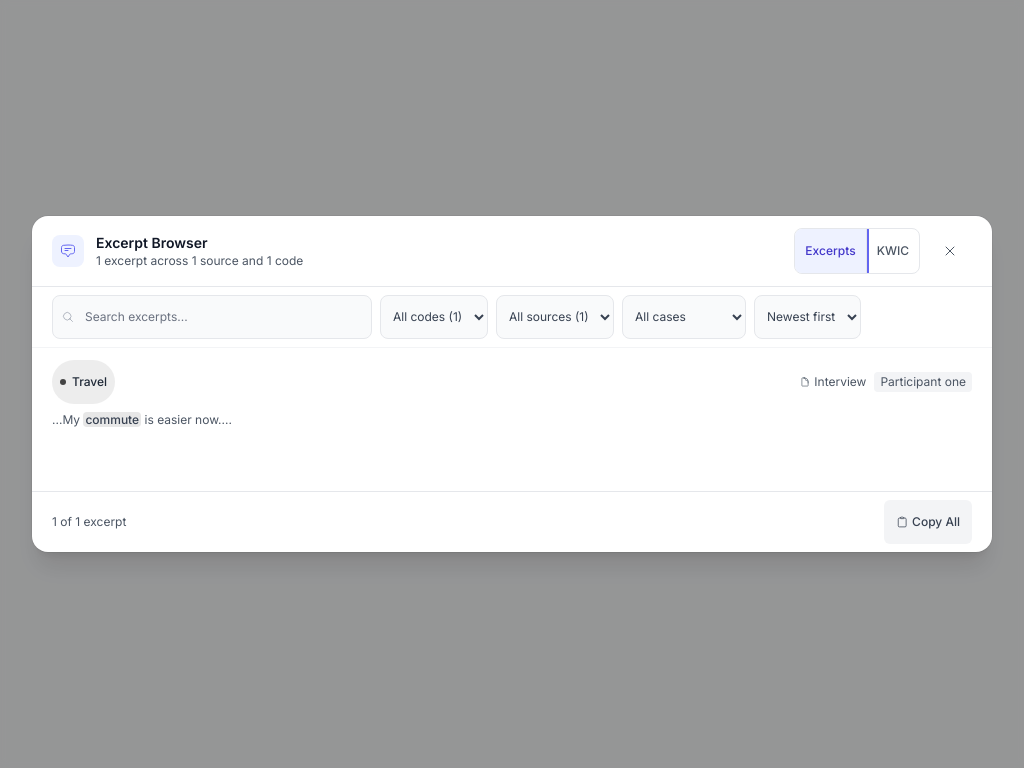
Test: excerpt browser first-run and recovery › clears search, source and code restrictions together
Type "missing" into the field labelled "Search excerpts".
click(212, 317); type("missing")  # box [52,295,372,339]
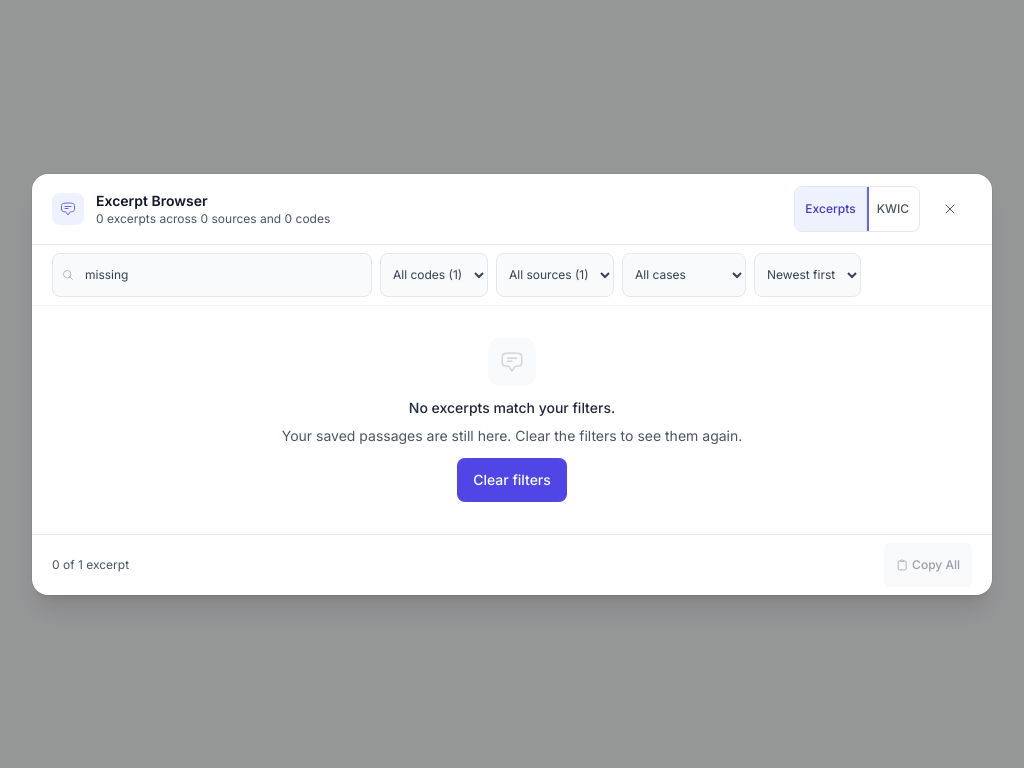
Select "Travel" in the dropdown named "Filter by code" at (434, 274), box [380,252,488,296]
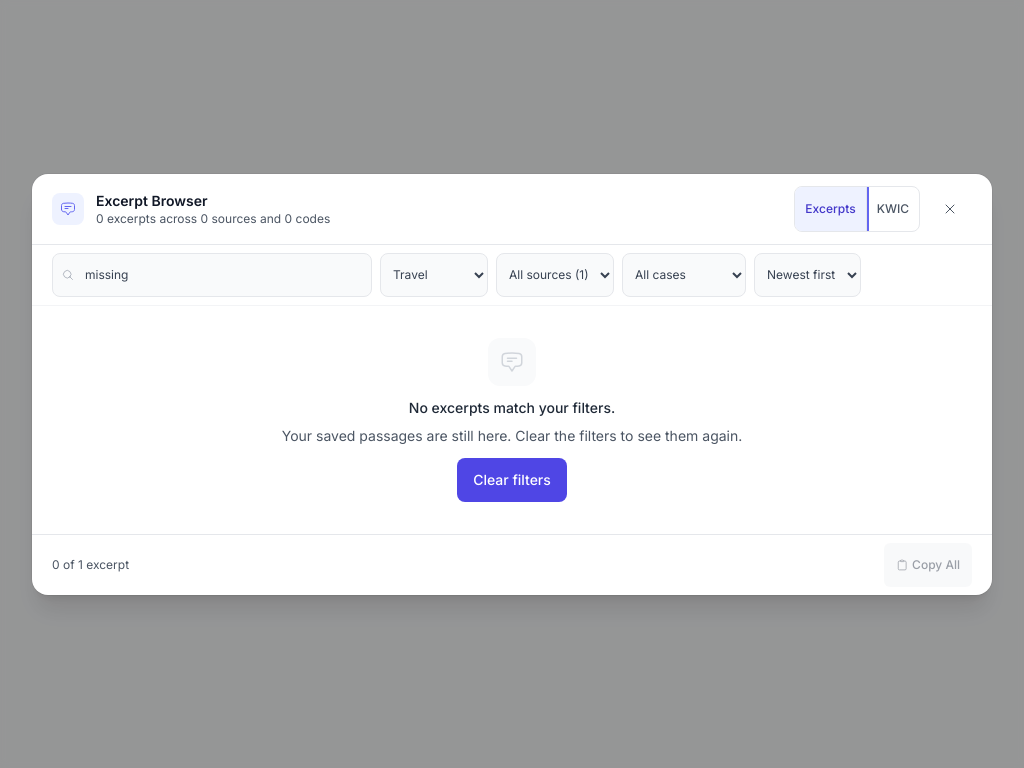
Select "Interview" in the dropdown named "Filter by source" at (555, 274), box [496,252,614,296]
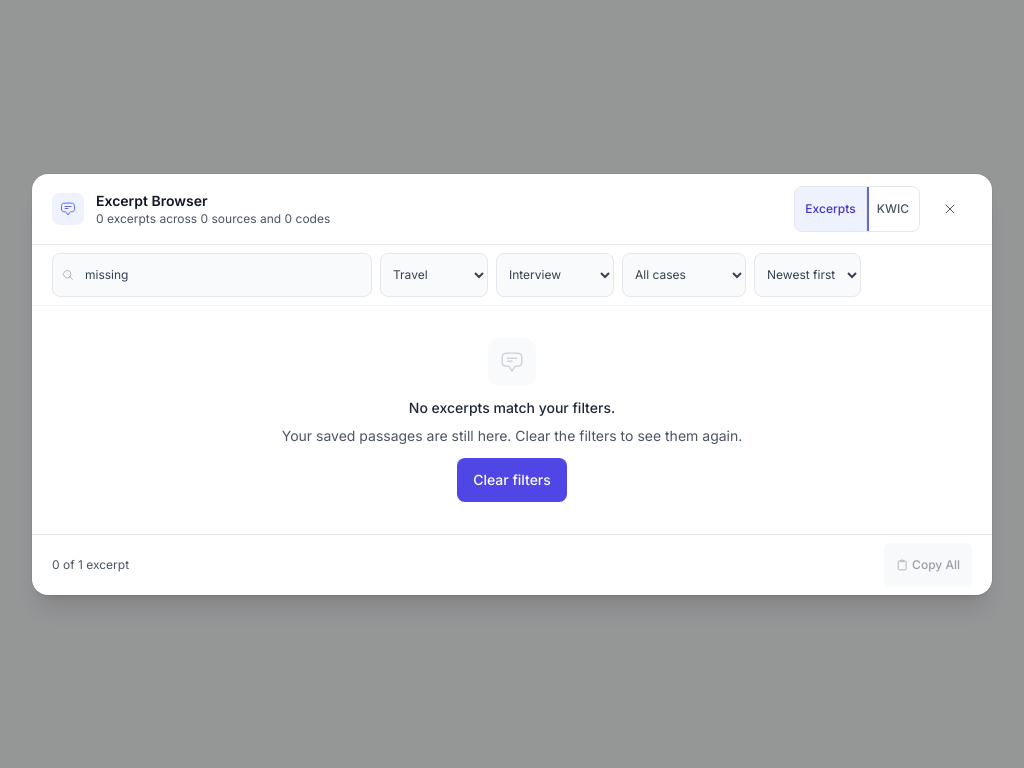
Click the button "Clear filters".
click(512, 480)  # box [457,458,567,502]
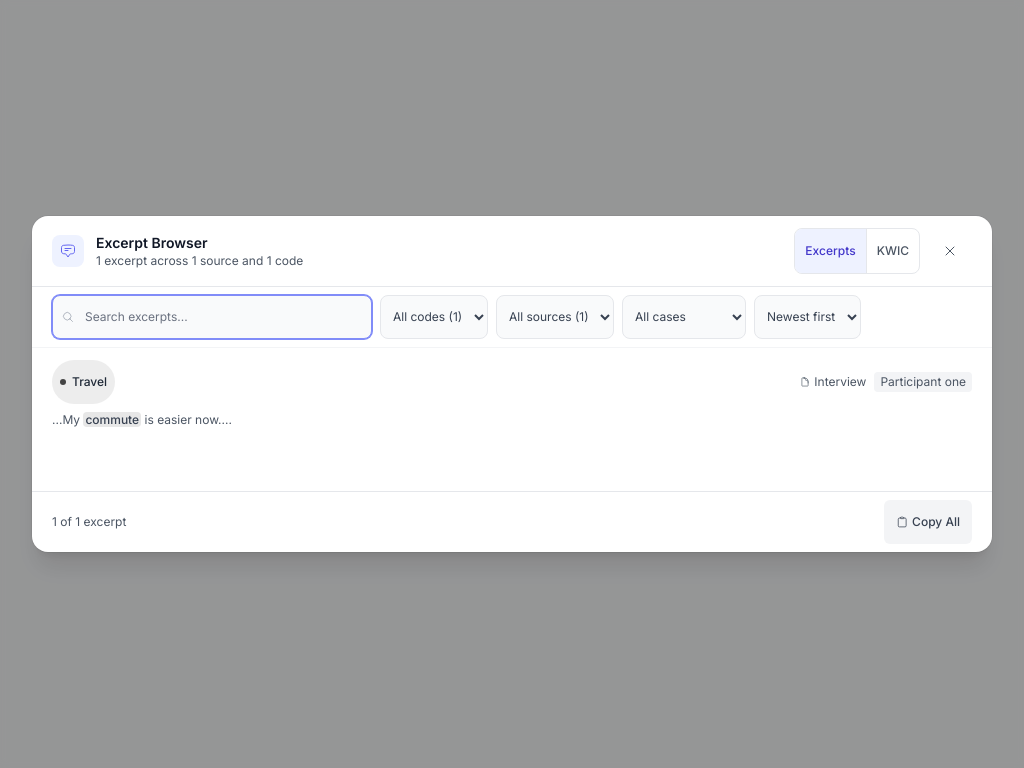
Expected: the field labelled "Search excerpts" is empty, [52,295,372,339]
Expected: the text "commute" is shown, [83,412,141,427]
